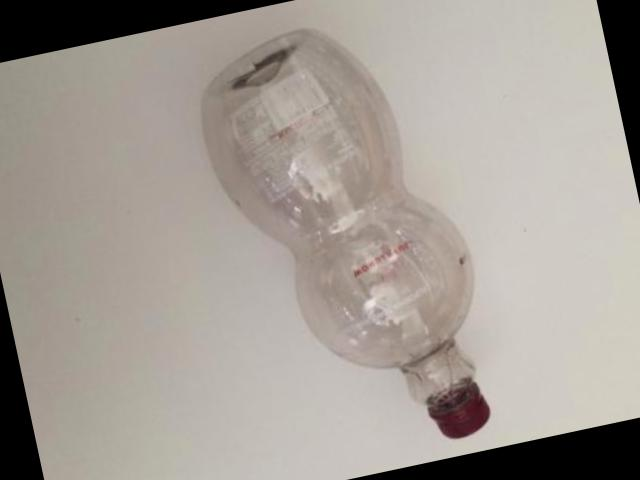plastic: (205, 32, 491, 439)
